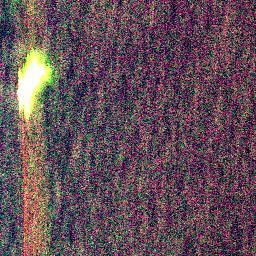Ship: (12, 50, 57, 119)
